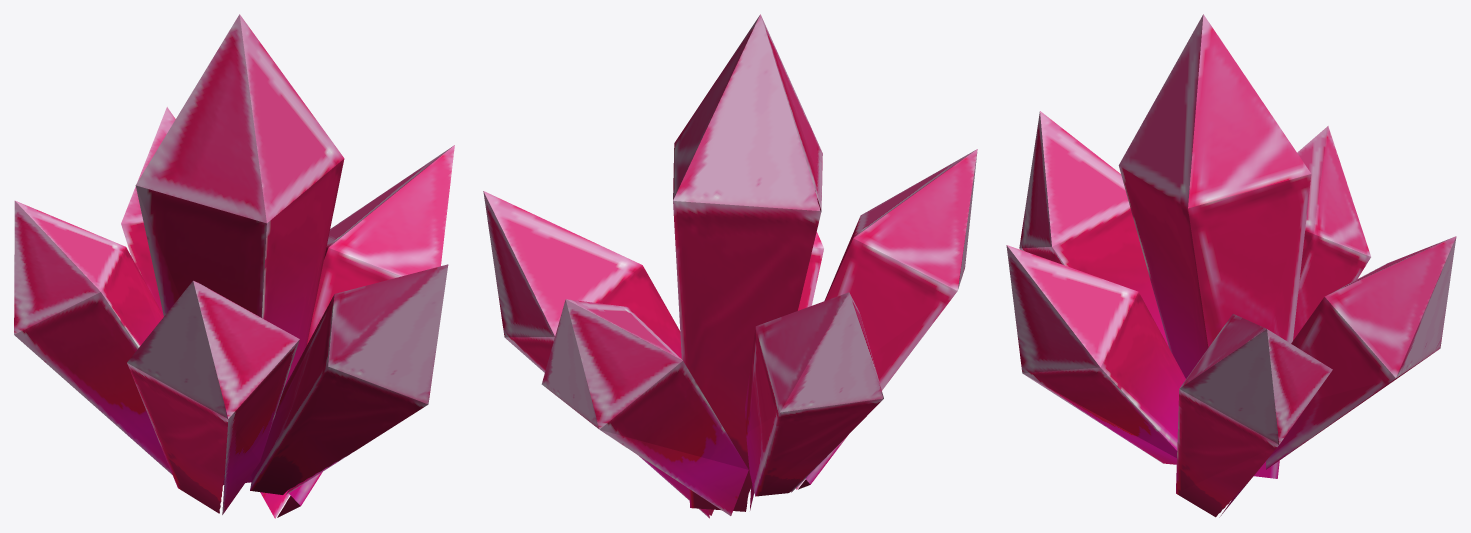
The model's file is bigcrystal.dae.
The picture shows the model from 3 angles, left to right: view 1: azimuth 30°, elevation 25°; view 2: azimuth 150°, elevation 25°; view 3: azimuth 270°, elevation 25°; orthographic projection. The views are drawn at different scales.
Parts seen in each view (by area): view 1: cristal.005; view 2: cristal.005; view 3: cristal.005.
Part boxes in pixels (x1=…): cristal.005: x1=14, y1=14, x2=454, y2=518; cristal.005: x1=483, y1=14, x2=977, y2=518; cristal.005: x1=1006, y1=14, x2=1456, y2=517.
Bounding box in the file's own units: 5.2 × 5.12 × 6.1.
1 material, 1 textured.
